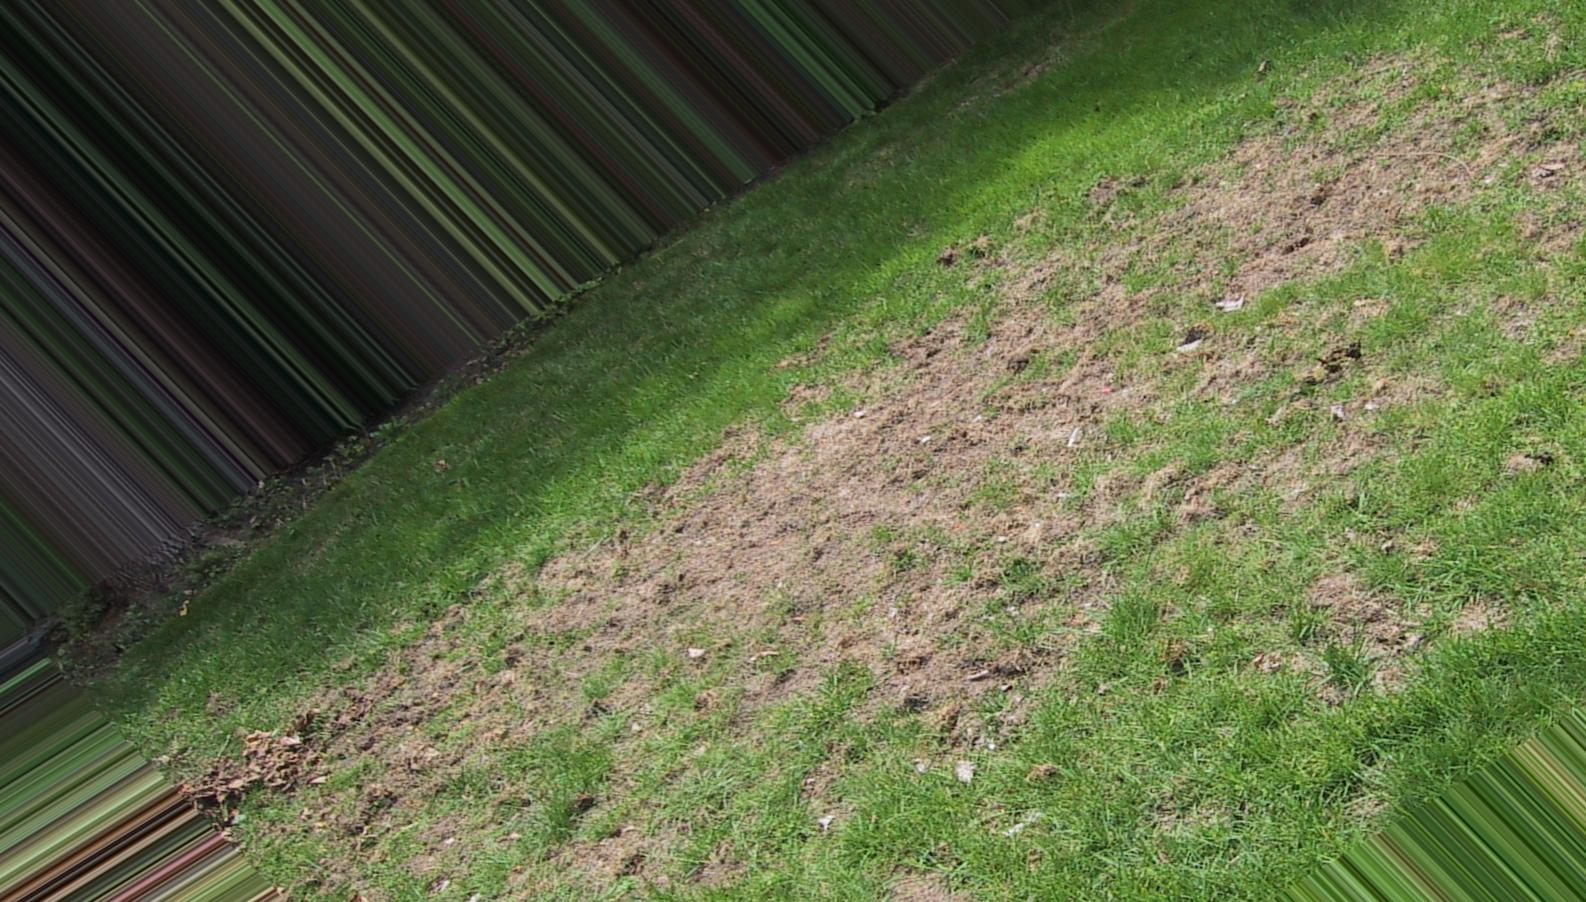patch: (380, 627, 793, 785), (973, 256, 1314, 405), (755, 442, 1064, 600), (1229, 85, 1478, 255)
